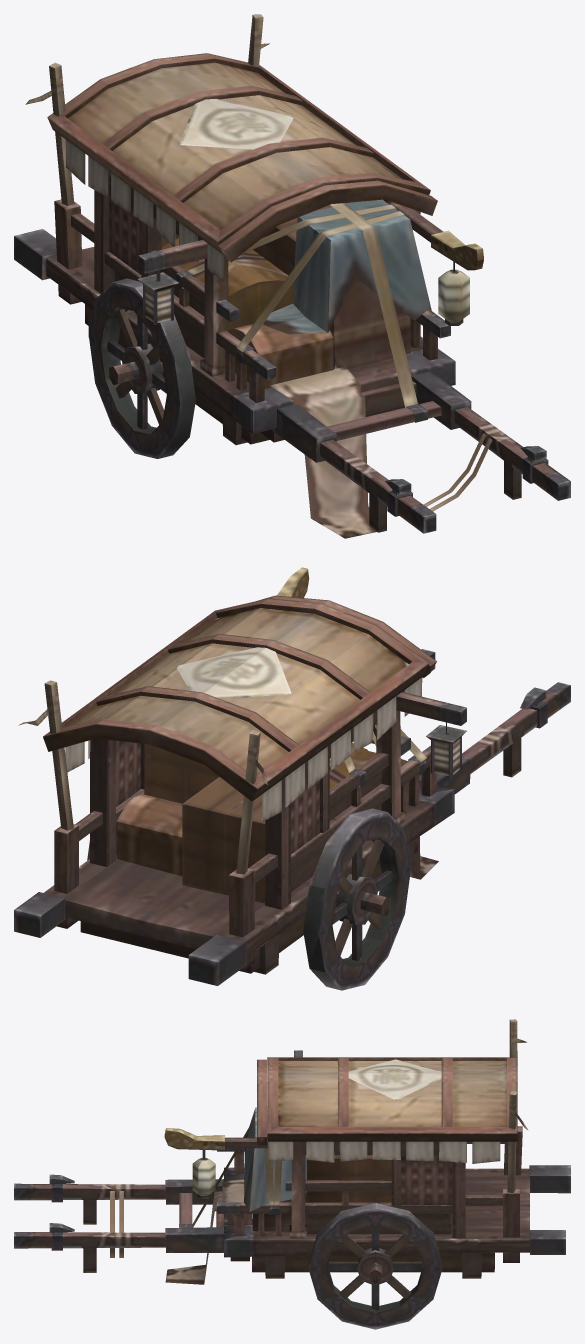
The model's file is mache01.FBX.
3 renders of one model, top to bottom at view 1: azimuth 30°, elevation 25°; view 2: azimuth 150°, elevation 25°; view 3: azimuth 270°, elevation 25°, orthographic. The views are drawn at different scales.
Parts seen in each view (by area): view 1: Mesh_0161; view 2: Mesh_0161; view 3: Mesh_0161.
Boxes of the visible parts, x1=… form: Mesh_0161: x1=14, y1=14, x2=570, y2=538; Mesh_0161: x1=14, y1=567, x2=570, y2=990; Mesh_0161: x1=14, y1=1019, x2=570, y2=1329.
Bounding box in the file's own units: 183 × 185 × 404.
1 material, 1 textured.
